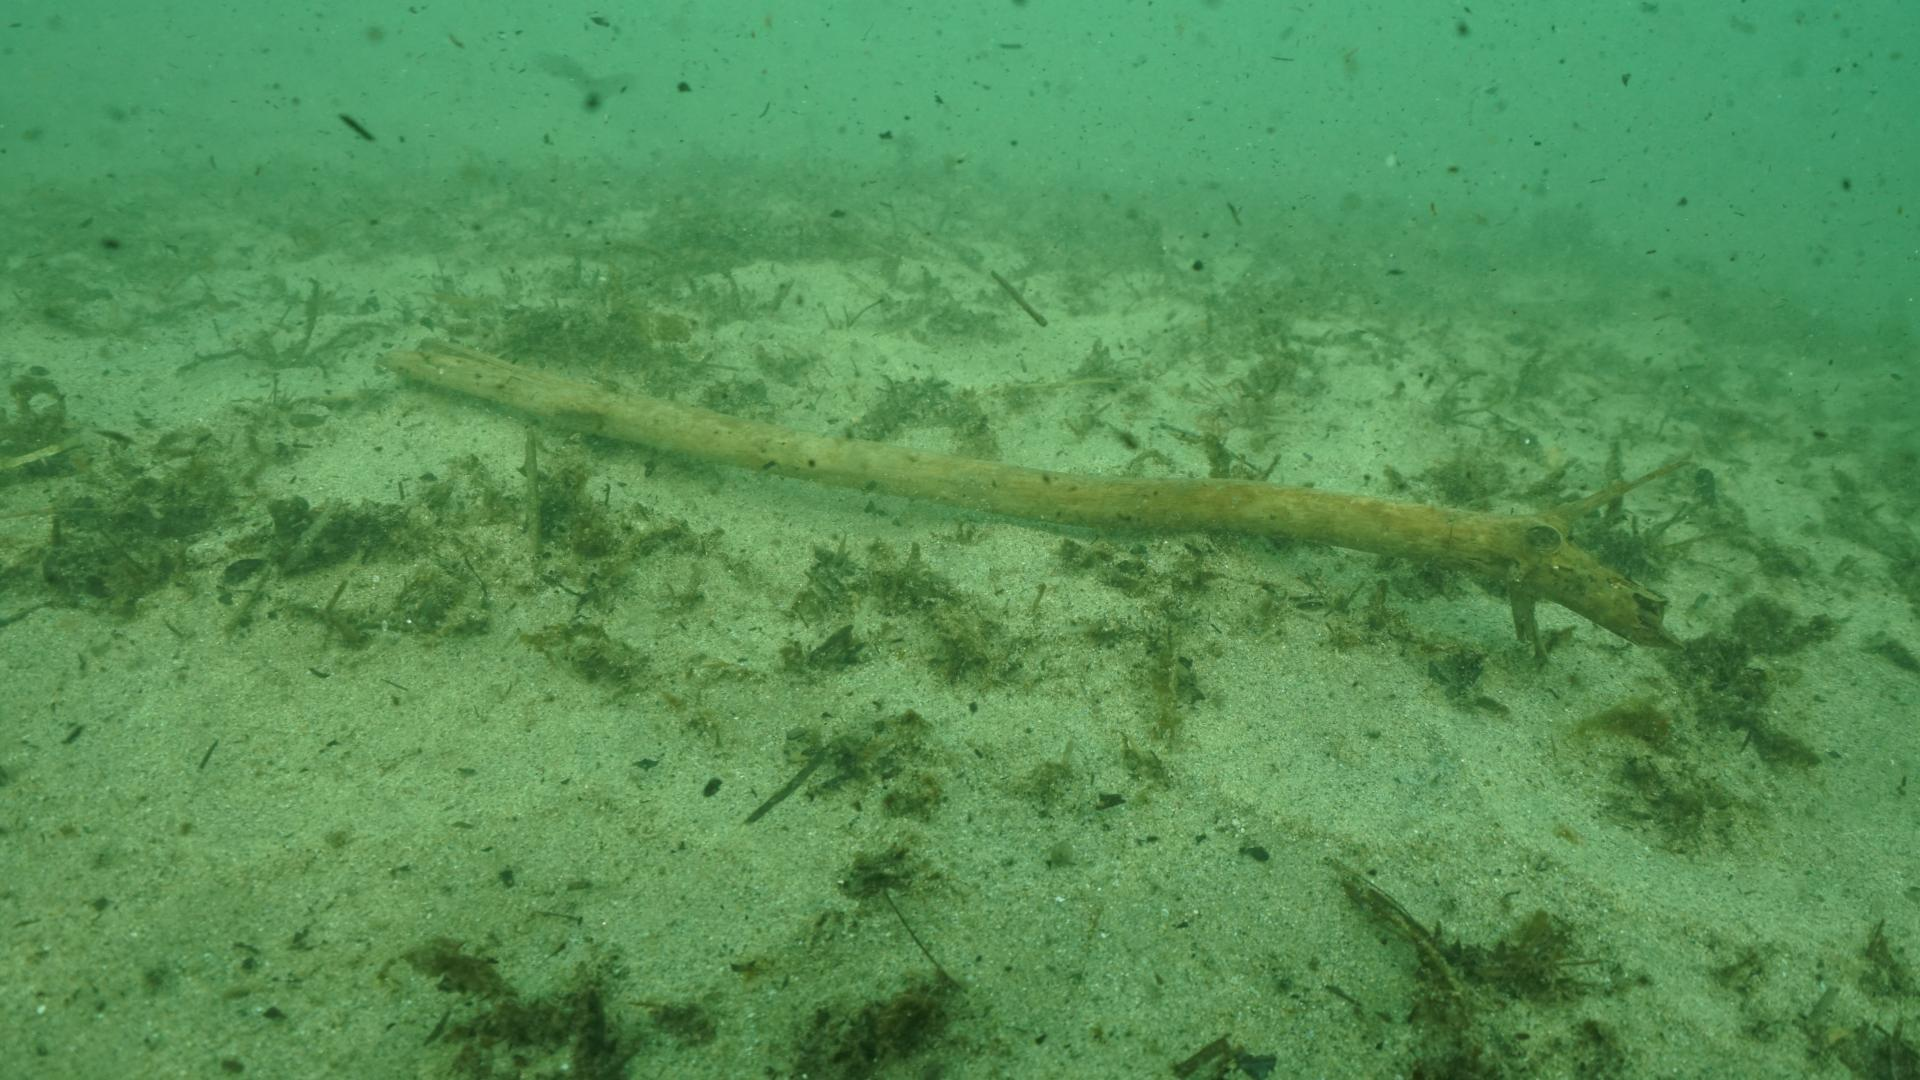wood: (382, 332, 1685, 651)
